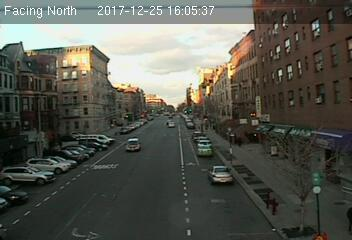car: (207, 164, 232, 183), (196, 143, 214, 157), (126, 137, 142, 152)
